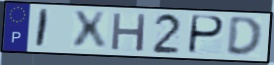2: (151, 12, 183, 56)
D: (224, 16, 264, 59)
H: (110, 11, 149, 53)
I: (33, 8, 51, 50)
P: (186, 14, 227, 56)
X: (71, 10, 109, 51)
